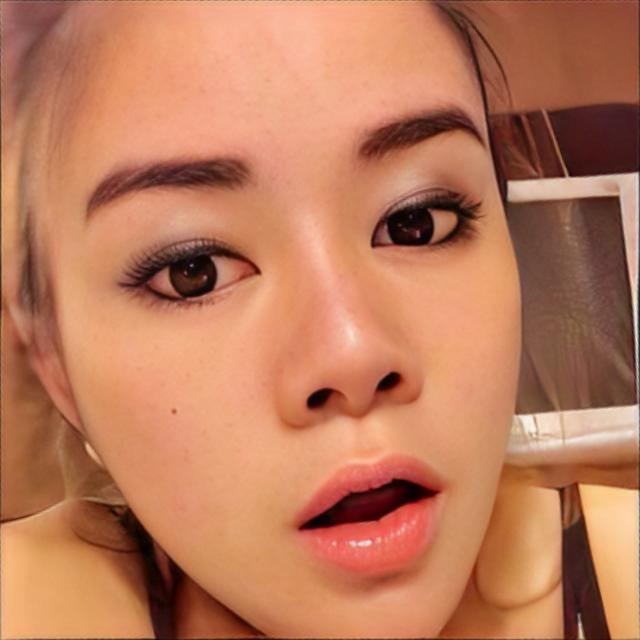surprise: (36, 0, 524, 640)
